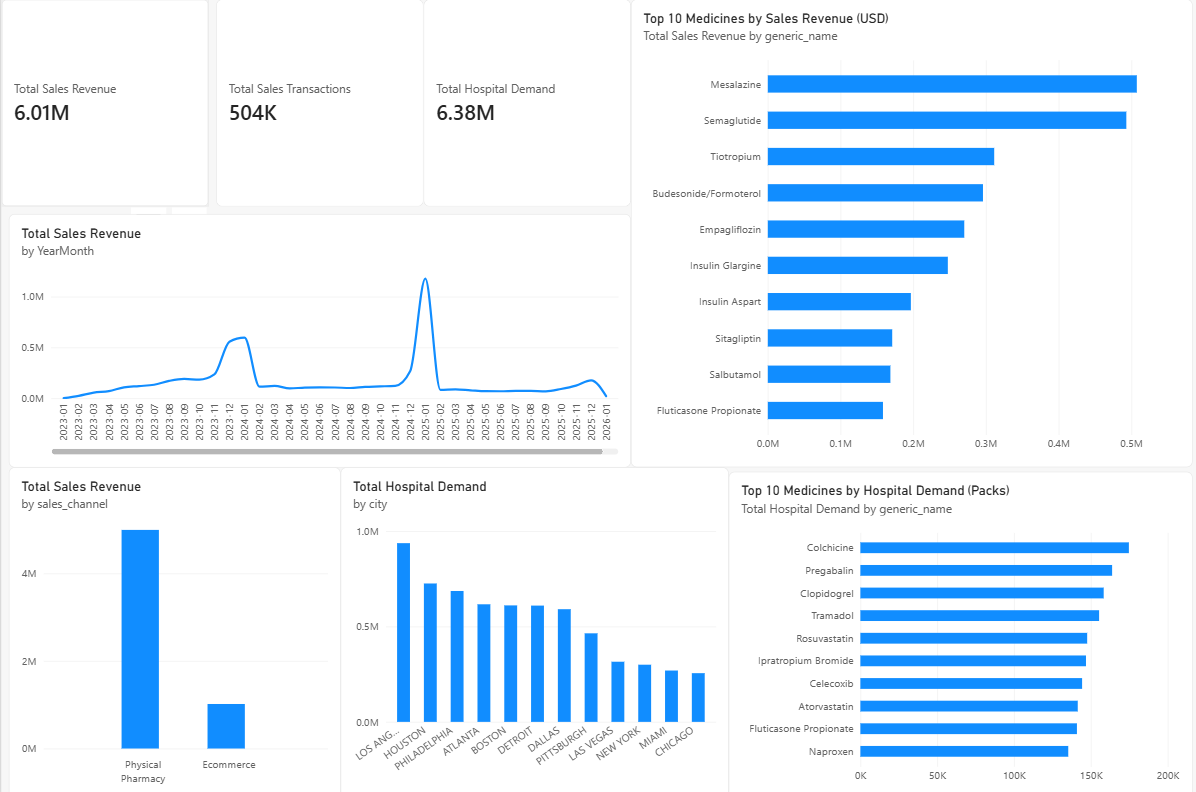

This screenshot's page, from the dashboard's own definition file:
{"tool":"powerbi","page":{"name":"SDI | Sales & Demand Intelligence","canvas":[1920,1080],"ordinal":0},"visuals":[{"type":"cardVisual","fields":{"Data":["mart fact_sales.Total Sales Revenue"]},"box":[0,0,280,280],"z":0},{"type":"cardVisual","fields":{"Data":["mart fact_sales.Total Sales Transactions"]},"box":[290,0,280,280],"z":1000},{"type":"cardVisual","fields":{"Data":["mart fact_sales.Total Hospital Demand"]},"box":[570,0,280,280],"z":2000},{"type":"lineChart","fields":{"Category":["mart dim_date.YearMonth"],"Y":["mart fact_sales.Total Sales Revenue"]},"box":[10,290,840,342],"z":3000},{"type":"clusteredColumnChart","fields":{"Category":["mart dim_channel.sales_channel"],"Y":["mart fact_sales.Total Sales Revenue"]},"box":[10,632,448,448],"z":4000},{"type":"clusteredColumnChart","fields":{"Category":["mart dim_location.city"],"Y":["mart fact_sales.Total Hospital Demand"]},"box":[458,632,524,448],"z":5000},{"type":"clusteredBarChart","title":"Top 10 Medicines by Sales Revenue (USD)","fields":{"Category":["mart dim_medicine.generic_name"],"Y":["mart fact_sales.Total Sales Revenue"]},"box":[850,0,758,632],"z":5001},{"type":"clusteredBarChart","title":"Top 10 Medicines by Hospital Demand (Packs)","fields":{"Category":["mart dim_medicine.generic_name"],"Y":["mart fact_sales.Total Hospital Demand"]},"box":[982,638,626,442],"z":5002}]}

Visuals, with their boxes on the page's 1920x1080 design canvas (x1, y1, x2, y2). These are canvas units, not pixel positions in the 1196x792 screenshot, which may show the page scaled, cropped or inside an application window:
cardVisual - mart fact_sales.Total Sales Revenue: region(0, 0, 280, 280)
cardVisual - mart fact_sales.Total Sales Transactions: region(290, 0, 570, 280)
cardVisual - mart fact_sales.Total Hospital Demand: region(570, 0, 850, 280)
lineChart - mart dim_date.YearMonth x mart fact_sales.Total Sales Revenue: region(10, 290, 850, 632)
clusteredColumnChart - mart dim_channel.sales_channel x mart fact_sales.Total Sales Revenue: region(10, 632, 458, 1080)
clusteredColumnChart - mart dim_location.city x mart fact_sales.Total Hospital Demand: region(458, 632, 982, 1080)
"Top 10 Medicines by Sales Revenue (USD)" clusteredBarChart: region(850, 0, 1608, 632)
"Top 10 Medicines by Hospital Demand (Packs)" clusteredBarChart: region(982, 638, 1608, 1080)
